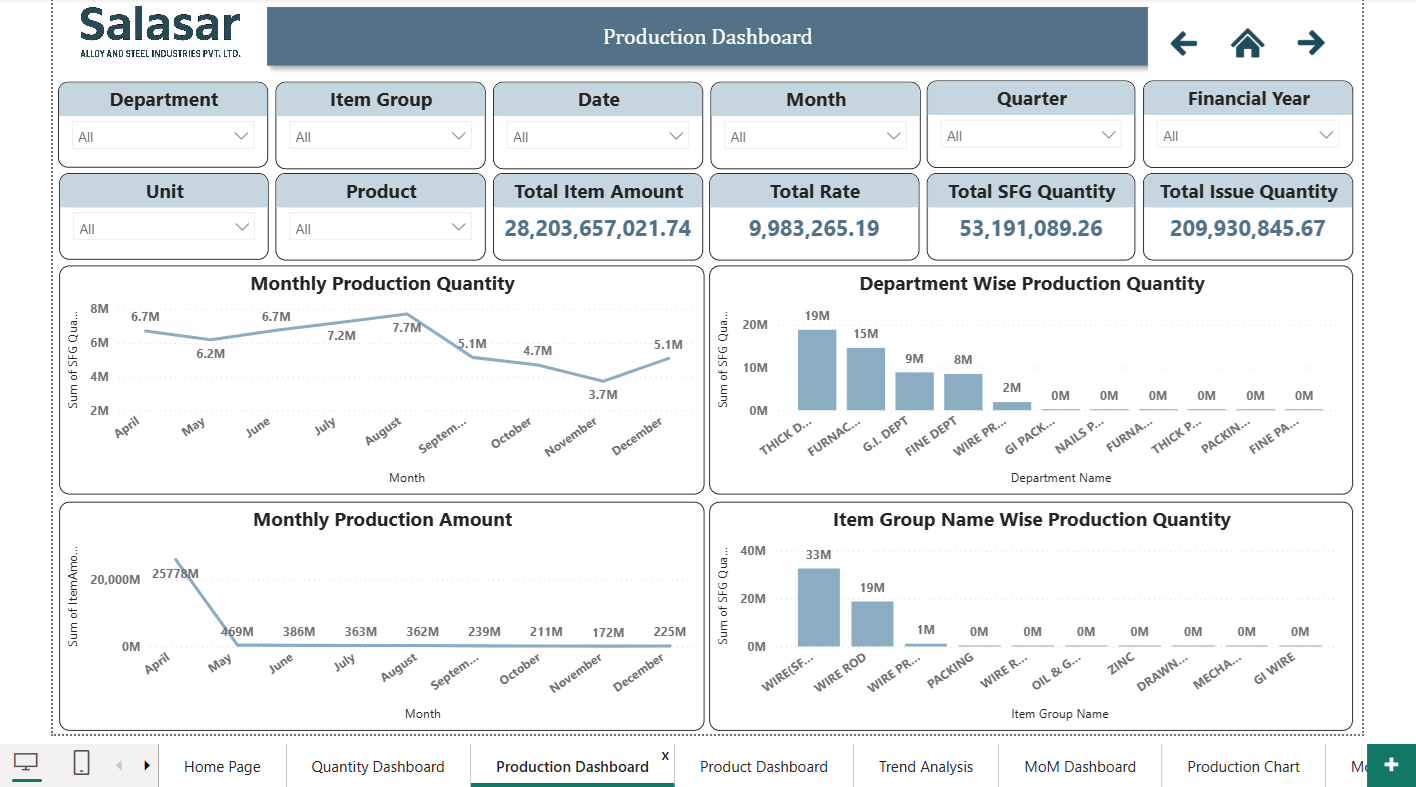

The dashboard page shown, as its layout file describes it:
{"tool":"powerbi","page":{"name":"Production Dashboard","canvas":[1280,720],"ordinal":2},"visuals":[{"type":"image","box":[1129.2,4.2,80,80],"z":0,"group":"g1"},{"type":"columnChart","title":"Department Wise Production Quantity","fields":{"Category":["Sheet 1.Department Name"],"Y":["Sum(Sheet 1.SFG Quantity)"]},"box":[642,261.7,629.8,223.8],"z":0},{"type":"image","box":[1066.3,4.9,79.5,79.5],"z":1000,"group":"g2"},{"type":"columnChart","title":"Item Group Name Wise Production Quantity","fields":{"Category":["Sheet 1.Item Group Name"],"Y":["Sum(Sheet 1.SFG Quantity)"]},"box":[642,492.8,629.8,223.8],"z":1000},{"type":"image","box":[1191.7,4.2,80,80],"z":2000,"group":"g1"},{"type":"lineChart","title":"Monthly Production Quantity","fields":{"Y":["Sum(Sheet 1.SFG Quantity)"],"Category":["Calendar.Month"]},"box":[6.1,261.7,631,224],"z":2000},{"type":"lineChart","title":"Monthly Production Amount","fields":{"Y":["Sum(Sheet 1.ItemAmount)"],"Category":["Calendar.Month"]},"box":[6.1,492.8,631,224],"z":3000},{"type":"slicer","title":"Department","fields":{"Values":["Sheet 1.Department Name"]},"box":[5.3,81.4,205.4,84.4],"z":4000},{"type":"slicer","title":"Item Group","fields":{"Values":["Sheet 1.Item Group Name"]},"box":[217.8,81.4,205.4,85.6],"z":5000},{"type":"slicer","title":"Date","fields":{"Values":["Sheet 1.Doc Date"]},"box":[430.4,81.4,205.4,85.6],"z":6000},{"type":"slicer","title":"Month","fields":{"Values":["Calendar.Month"]},"box":[642.9,81.4,205.4,85.6],"z":7000},{"type":"slicer","title":"Quarter","fields":{"Values":["Calendar.Qtr"]},"box":[855.2,81.2,204.2,85.6],"z":8000},{"type":"slicer","title":"Financial Year","fields":{"Values":["Calendar.Fiscal Year"]},"box":[1066.7,81.2,205.4,85.6],"z":9000},{"type":"slicer","title":"Unit","fields":{"Values":["Sheet 1.unit"]},"box":[6.5,171.5,205,85],"z":10000},{"type":"card","title":"Total Item Amount ","fields":{"Values":["Sum(Sheet 1.ItemAmount)"]},"box":[430.9,171.5,205.4,85.6],"z":11000},{"type":"card","title":"Total Rate","fields":{"Values":["Sum(Sheet 1.Rate)"]},"box":[642.4,171.5,205.4,85.6],"z":12000},{"type":"card","title":"Total SFG Quantity","fields":{"Values":["Sum(Sheet 1.SFG Quantity)"]},"box":[855.2,171.5,204.2,85.6],"z":13000},{"type":"card","title":"Total Issue Quantity","fields":{"Values":["Sum(Sheet 1.Issue Quantity)"]},"box":[1066.7,171.5,205.4,85.6],"z":14000},{"type":"slicer","title":"Product","fields":{"Values":["Sheet 1.Product Name"]},"box":[218.1,171.5,205.4,85.6],"z":15000},{"type":"shape","box":[200.4,0.5,880,75],"z":16000},{"type":"image","box":[6.5,0.5,199.3,66],"z":17000},{"type":"group","id":"g1","title":"Group 1","box":[1129.2,4.2,142.5,80],"z":17015,"group":"g2"},{"type":"group","id":"g2","title":"Group 2","box":[1066.3,4.2,205.4,80.1],"z":18000}]}

Visuals, with their boxes on the page's 1280x720 design canvas (x1, y1, x2, y2). These are canvas units, not pixel positions in the 1416x787 screenshot, which may show the page scaled, cropped or inside an application window:
image: box(1129, 4, 1209, 84)
"Department Wise Production Quantity" columnChart: box(642, 262, 1272, 486)
image: box(1066, 5, 1146, 84)
"Item Group Name Wise Production Quantity" columnChart: box(642, 493, 1272, 717)
image: box(1192, 4, 1272, 84)
"Monthly Production Quantity" lineChart: box(6, 262, 637, 486)
"Monthly Production Amount" lineChart: box(6, 493, 637, 717)
"Department" slicer: box(5, 81, 211, 166)
"Item Group" slicer: box(218, 81, 423, 167)
"Date" slicer: box(430, 81, 636, 167)
"Month" slicer: box(643, 81, 848, 167)
"Quarter" slicer: box(855, 81, 1059, 167)
"Financial Year" slicer: box(1067, 81, 1272, 167)
"Unit" slicer: box(6, 172, 212, 256)
"Total Item Amount " card: box(431, 172, 636, 257)
"Total Rate" card: box(642, 172, 848, 257)
"Total SFG Quantity" card: box(855, 172, 1059, 257)
"Total Issue Quantity" card: box(1067, 172, 1272, 257)
"Product" slicer: box(218, 172, 424, 257)
shape: box(200, 0, 1080, 76)
image: box(6, 0, 206, 66)
"Group 1" group: box(1129, 4, 1272, 84)
"Group 2" group: box(1066, 4, 1272, 84)
